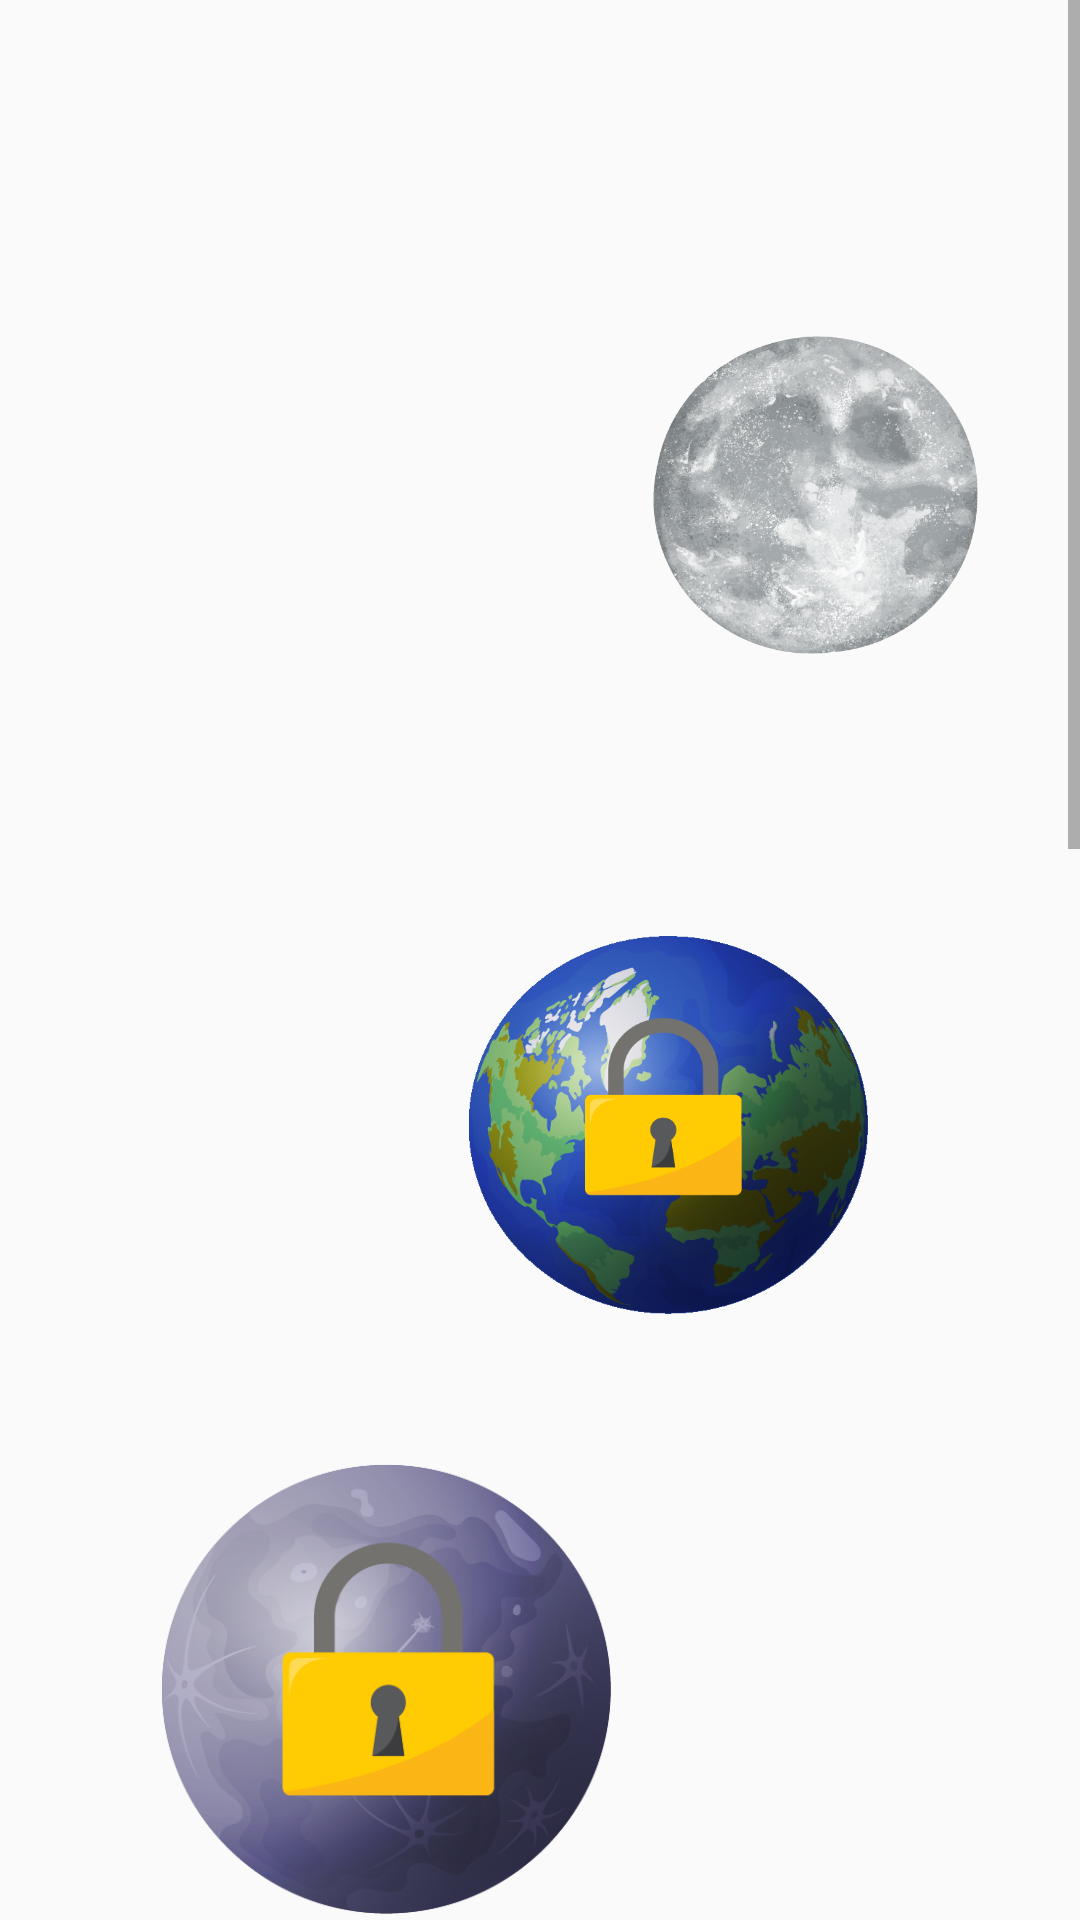

Icons on this 1080×1920 Android screen, each with the point to tap as (x,y):
moon: (815,495)
